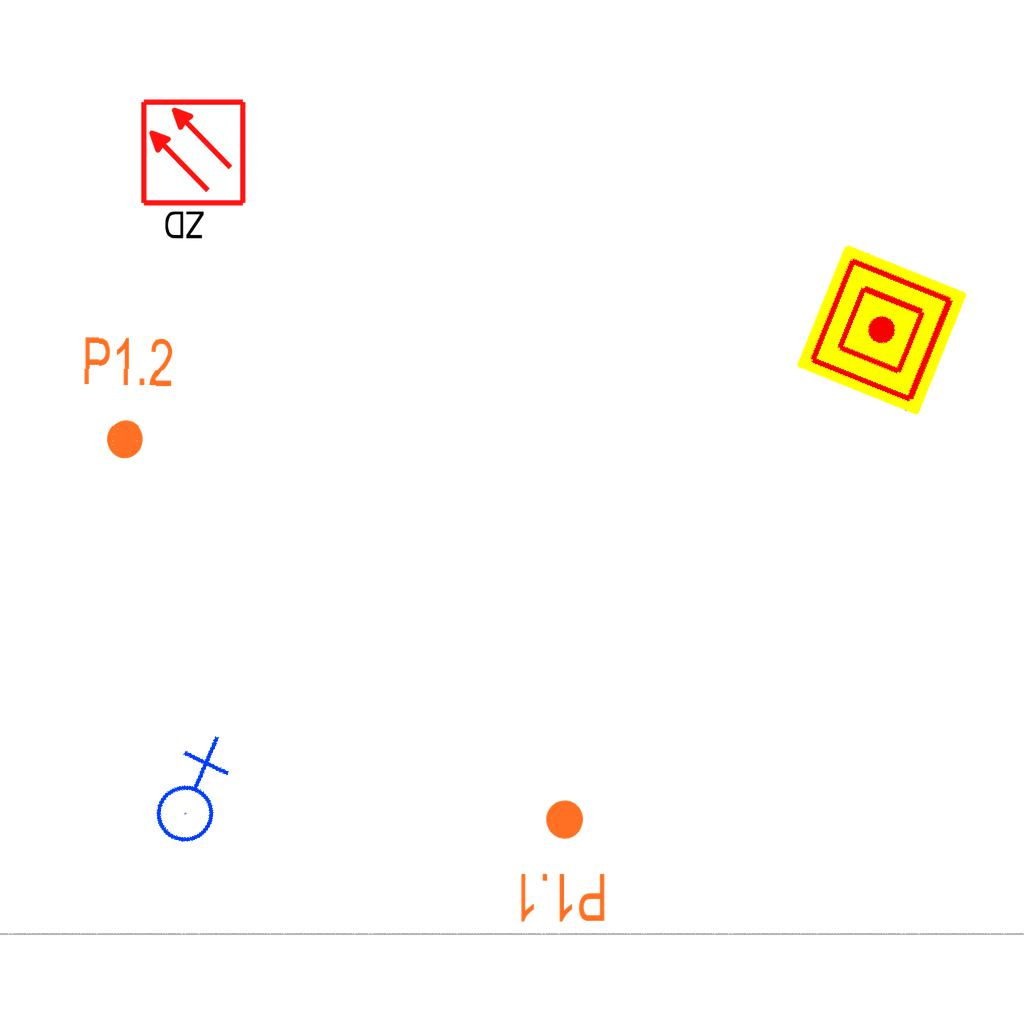Downlight_LED_Einbauleuchten_Flur: (79, 333, 176, 463), (515, 797, 608, 925)
Elektroanschluss_allgemein_230V_Geraeteanschlussdose_230V: (125, 730, 254, 856)
NAM-Nichtautomatischer_Melder: (796, 244, 968, 416)
ZD_Melder_in_Zwischendecke_mit_Revisionsoeffnung_mind_40_x_40_cm: (138, 97, 252, 246)
